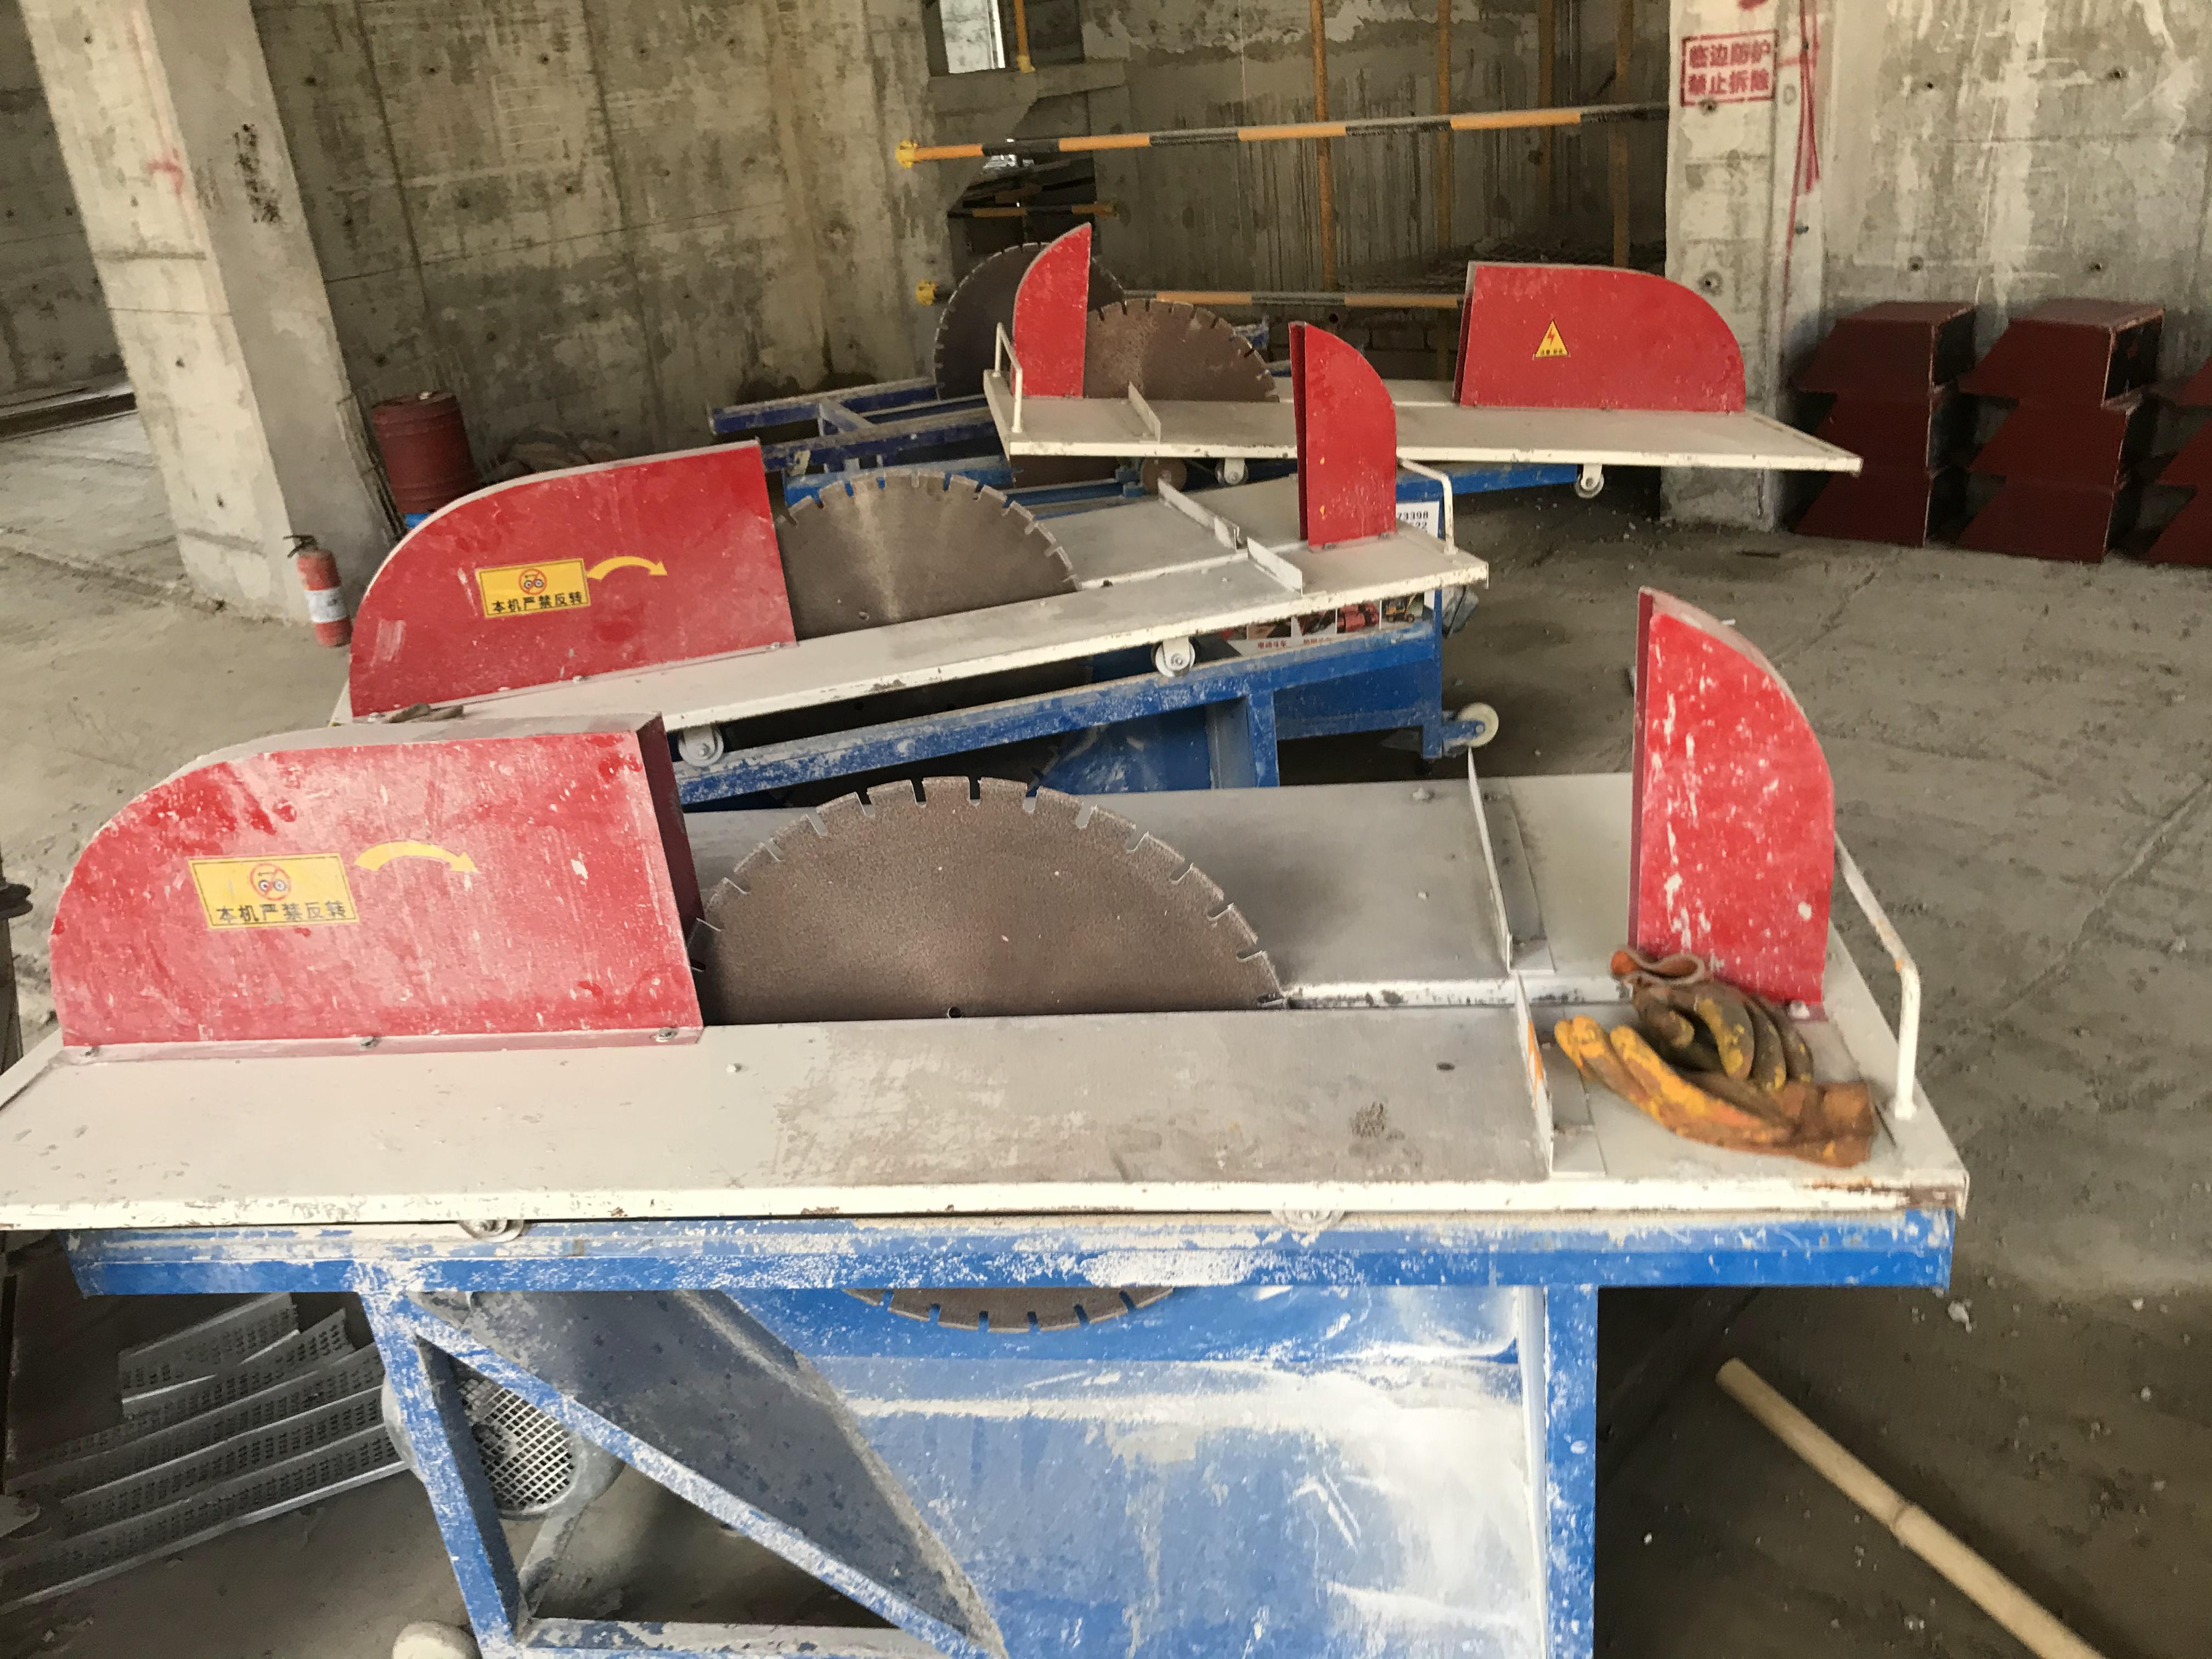cutter: (0, 606, 2040, 1659), (336, 357, 1494, 819), (932, 207, 1914, 481)
